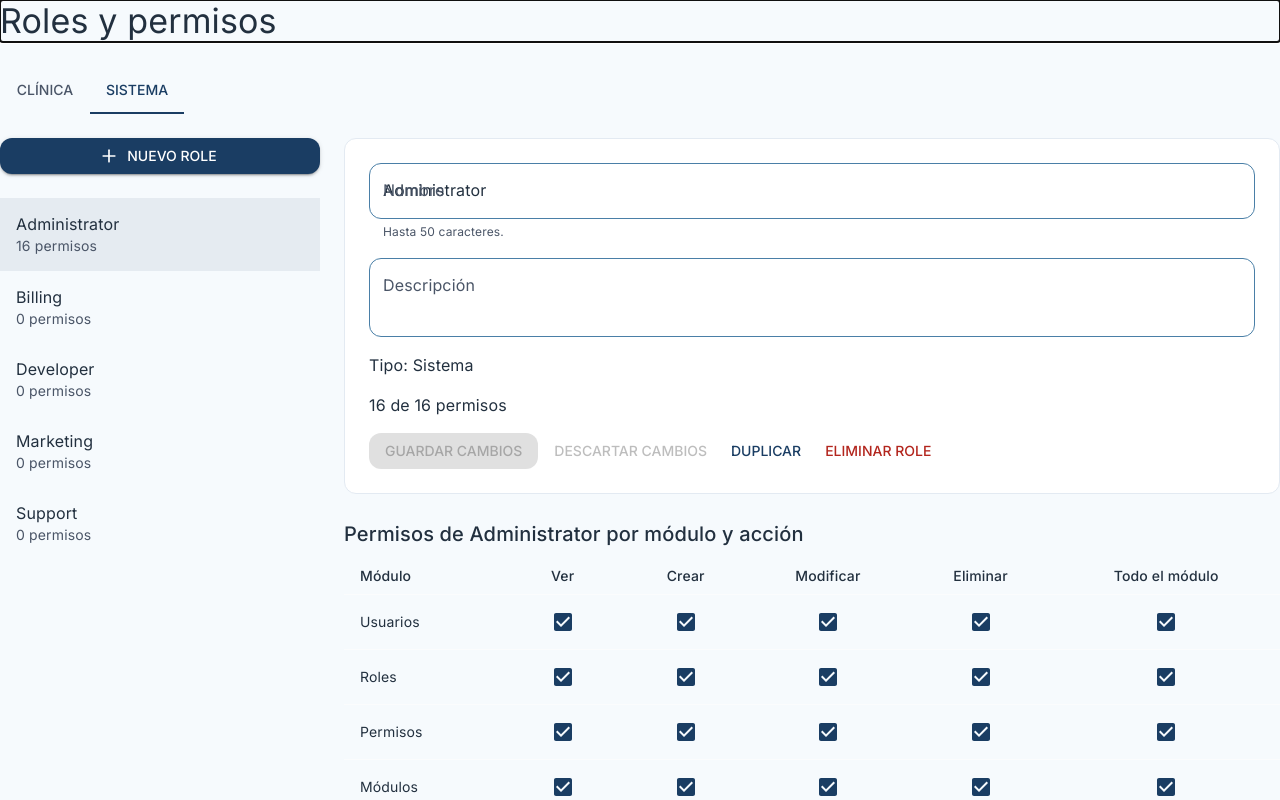
it: RolesPage › unsaved changes (FR-017, edge case of spec.md) › warns before switching roles, and staying keeps the edit and the current role
The width and height of the screenshot is (1280, 800).
Type " Jr" into the field labelled "Nombre". click: (812, 191)
box: [369, 163, 1255, 219]
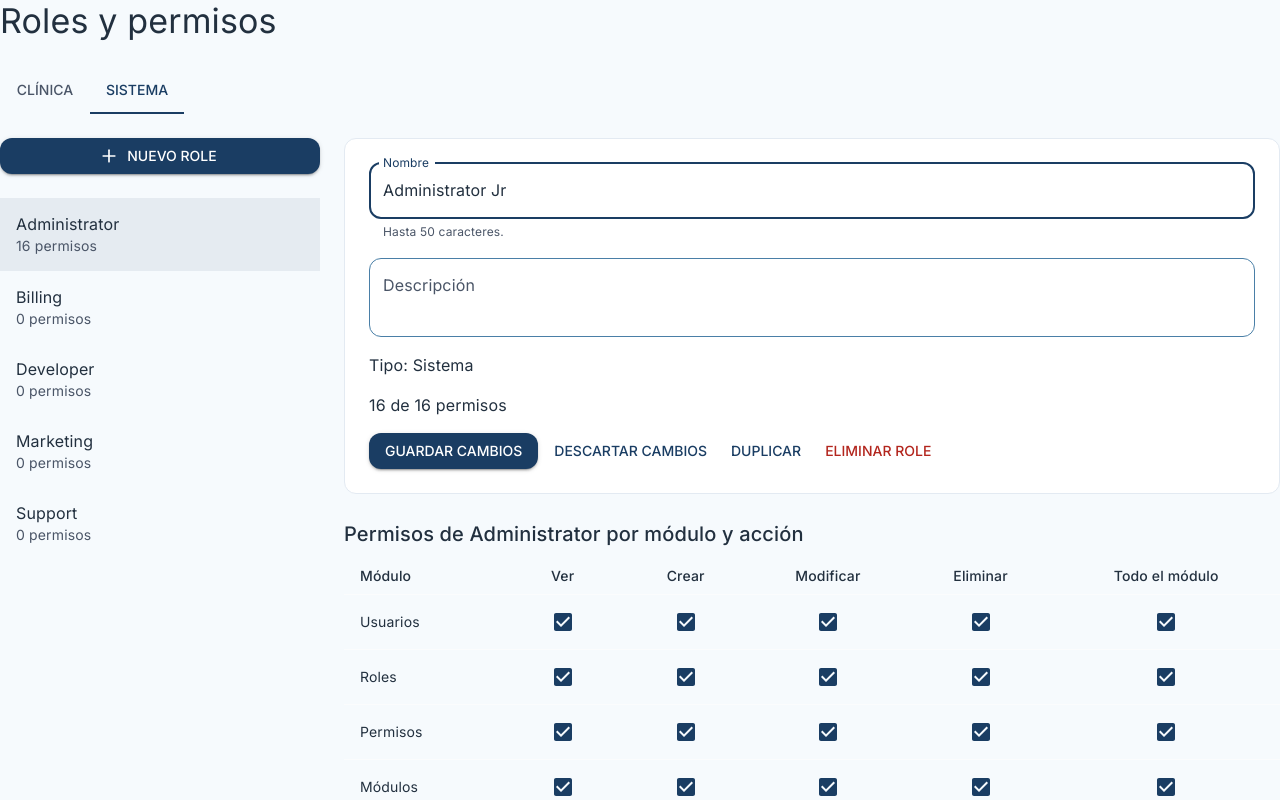
Click the text "Developer". click: (55, 368)
box: [16, 358, 94, 378]
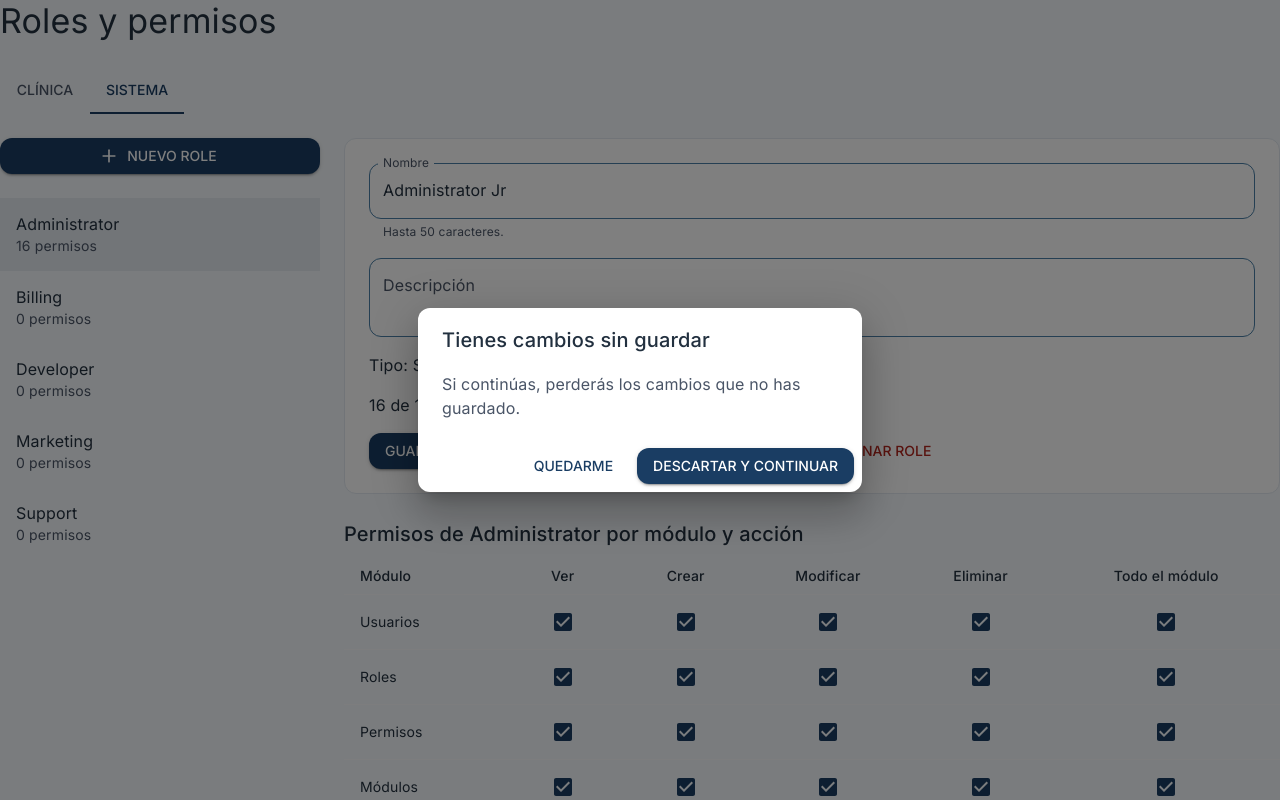
Result: the dialog "Tienes cambios sin guardar" is shown at [418, 308, 862, 492]
Click the button "Quedarme". click: (573, 466)
box: [526, 448, 621, 484]
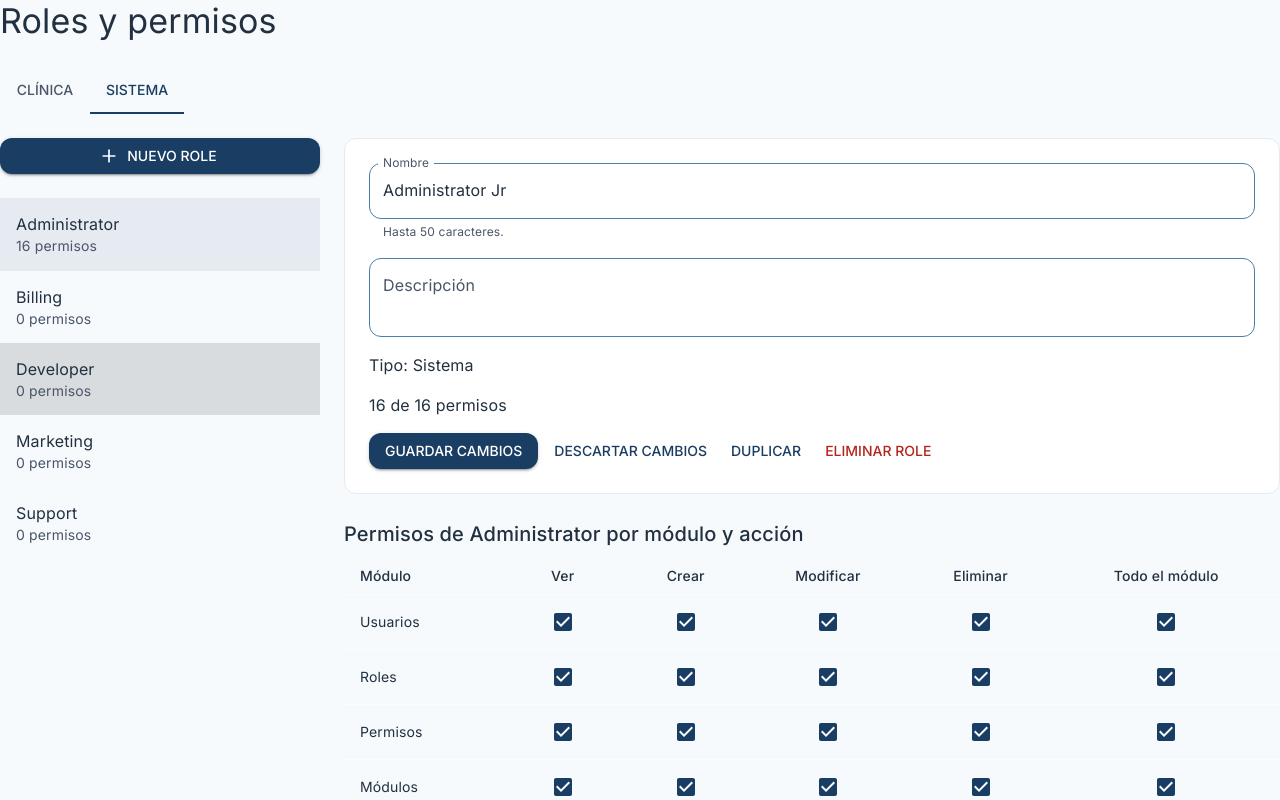
Result: the field labelled "Nombre" holds "Administrator Jr" at [369, 163, 1255, 219]
Result: the dialog is gone
